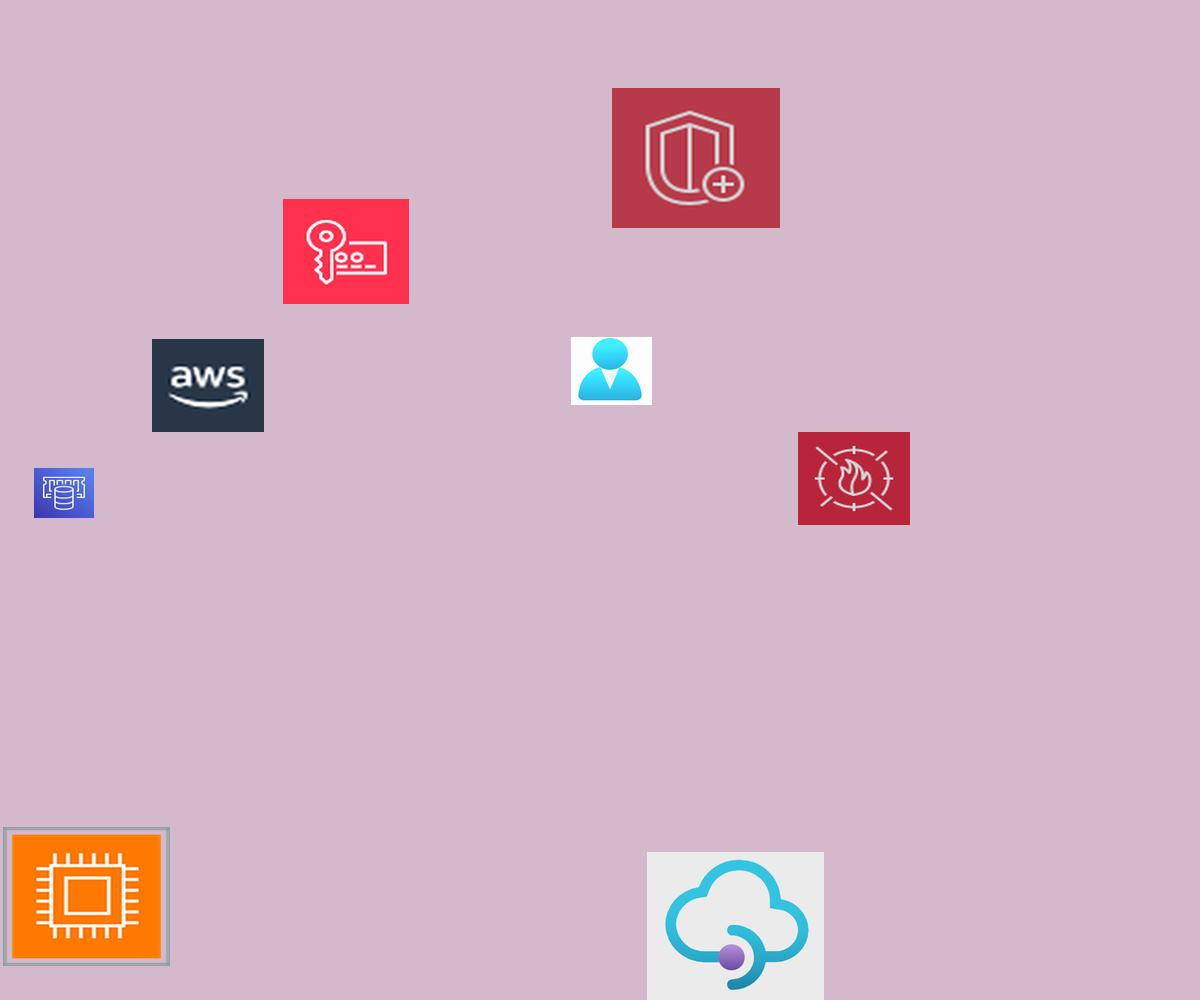AWS-Category_Compute: (3, 827, 170, 966)
AWS-Cloud-logo: (152, 339, 264, 432)
AWS-ElastiCache: (34, 468, 94, 518)
AWS-Key-Management-Service: (283, 199, 409, 304)
AWS-Shield: (612, 88, 780, 228)
AWS-WAF: (798, 432, 910, 525)
Azure_api_gateway: (647, 852, 824, 1000)
Azure_users: (571, 337, 652, 405)
